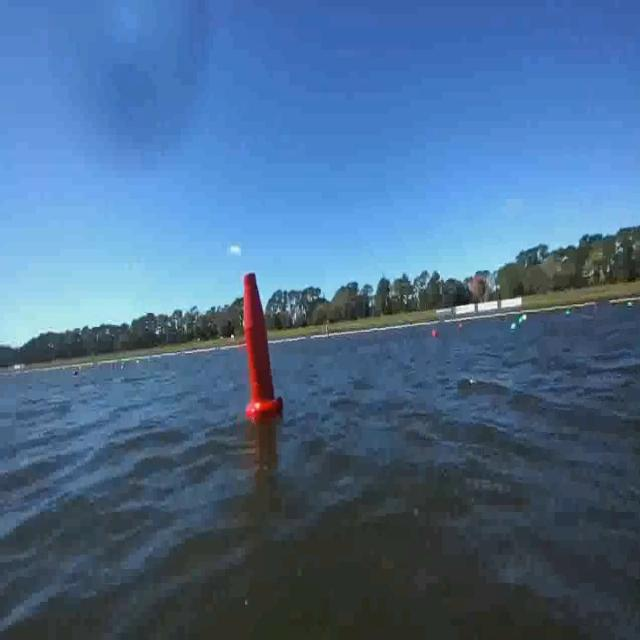green-buoy: (565, 309, 572, 316)
red-buoy: (432, 328, 438, 338)
red-column-buoy: (244, 269, 283, 420)
